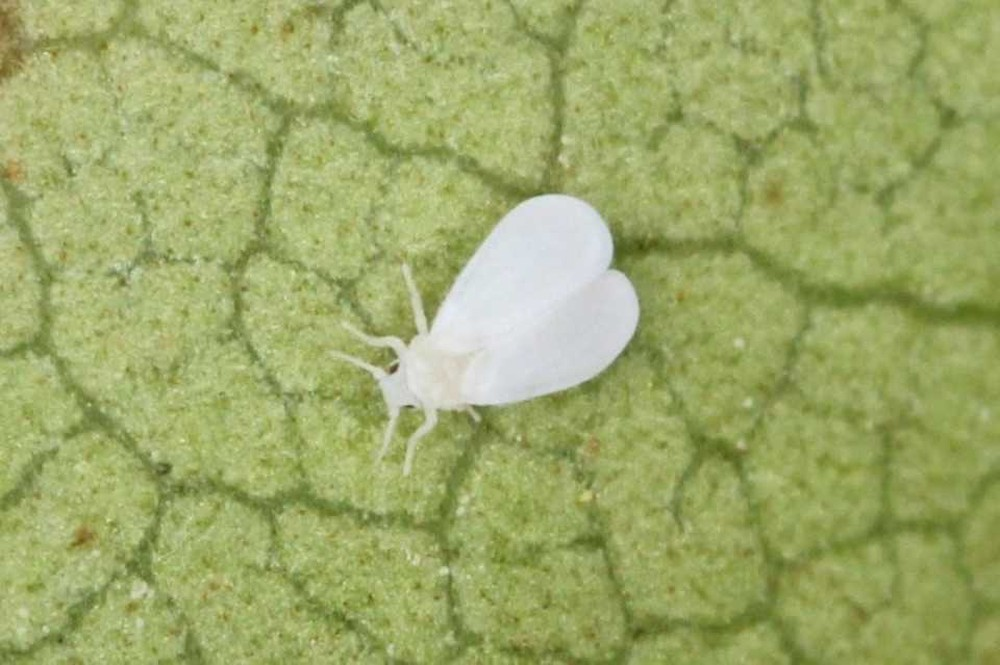Mosca Blanca: (318, 184, 650, 476)
